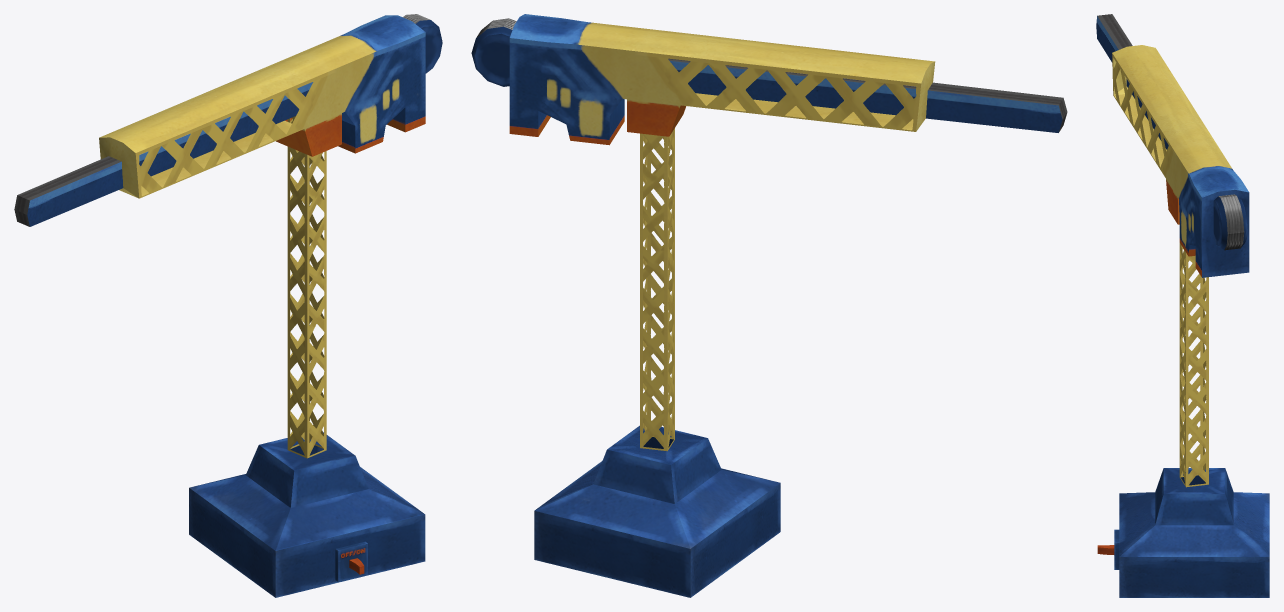
Rendered from Krahn_01_TL.FBX.
The picture shows the model from 3 angles, left to right: view 1: azimuth 30°, elevation 25°; view 2: azimuth 150°, elevation 25°; view 3: azimuth 270°, elevation 25°; orthographic projection. The views are drawn at different scales.
Visible parts, largest first — view 1: Krahn_base, Button_base; view 2: Krahn_base; view 3: Krahn_base.
Part boxes in pixels (x1,y1,x2,y2): Krahn_base: (14,14,442,597); Button_base: (335,541,367,582); Krahn_base: (471,14,1067,597); Krahn_base: (1096,14,1269,597).
Bounding box in the file's own units: 33.02 × 31.14 × 11.52.
